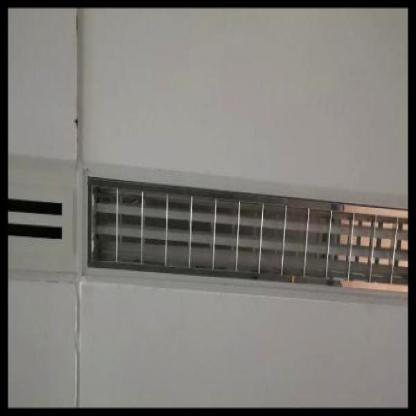light_off: (75, 147, 408, 304)
